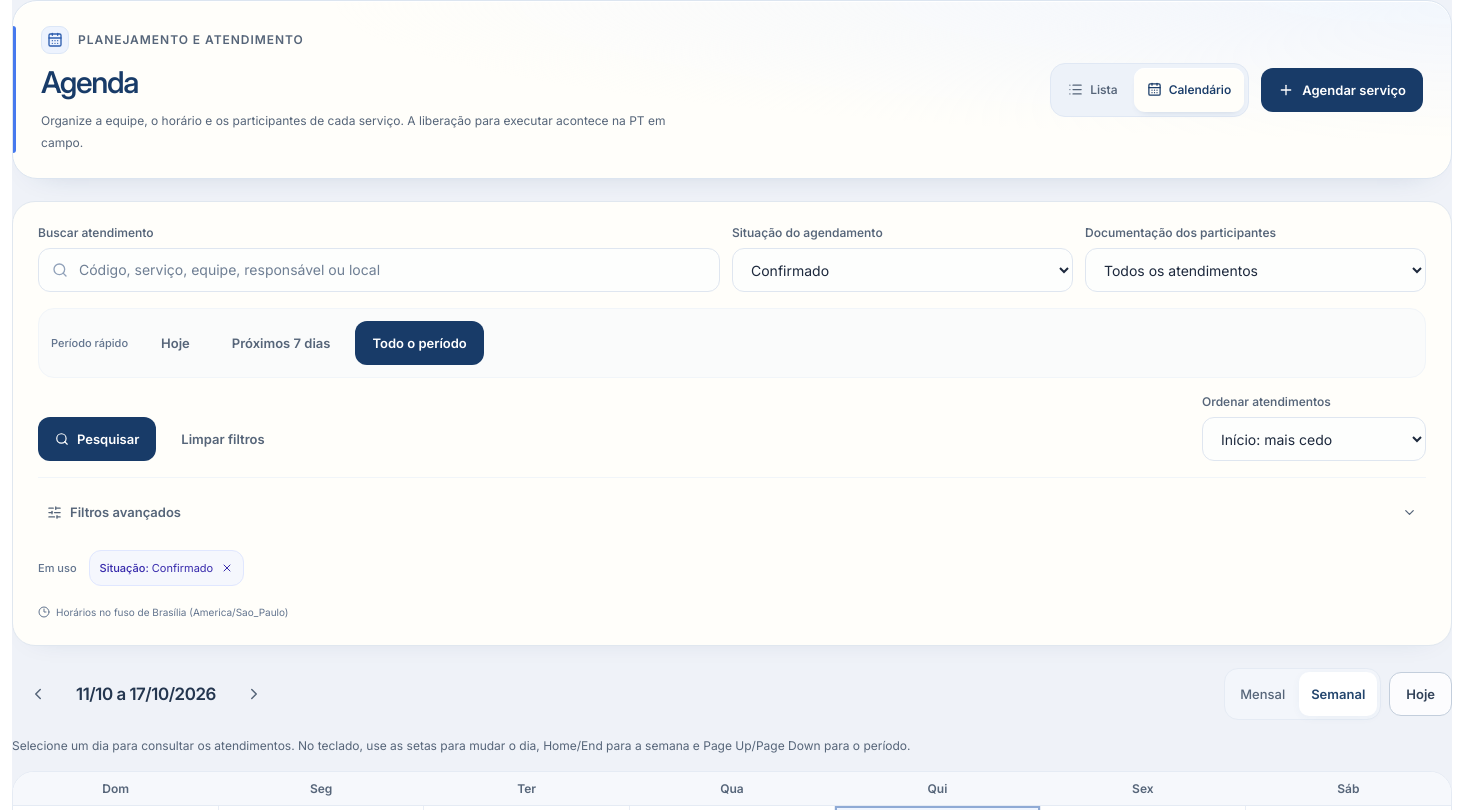
Test: AgendaPage — Visão de lista e calendário, múltiplos serviços e filtros (#102) › limpa critérios de busca sem perder semana e dia do calendário
This screenshot has width=1464, height=810.
Click the button "Limpar filtros".
click(223, 439)  # box left=164, top=417, right=282, bottom=461
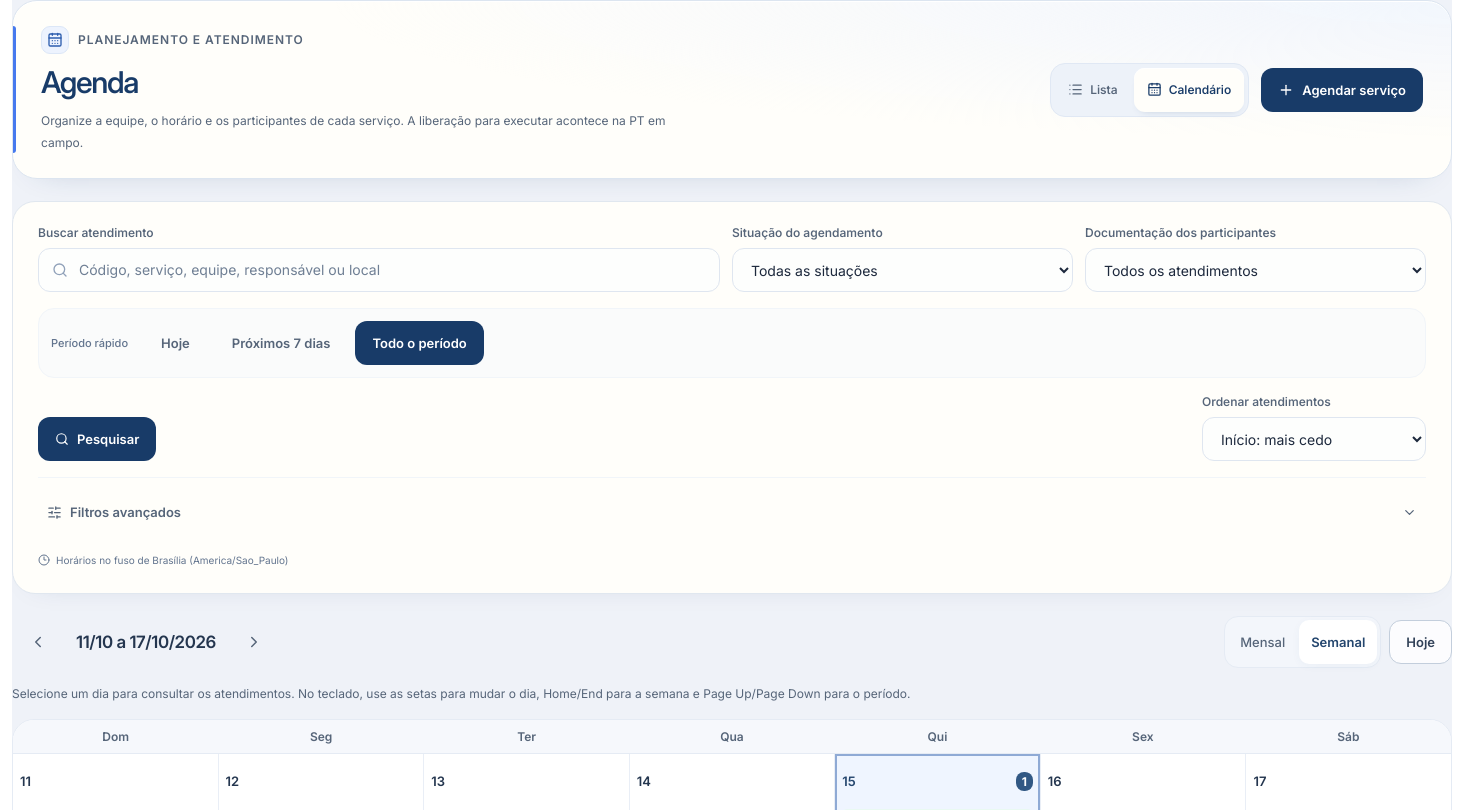
Check: the dropdown labelled "Situação do agendamento" shows "Todas as situações", box left=732, top=248, right=1073, bottom=292
